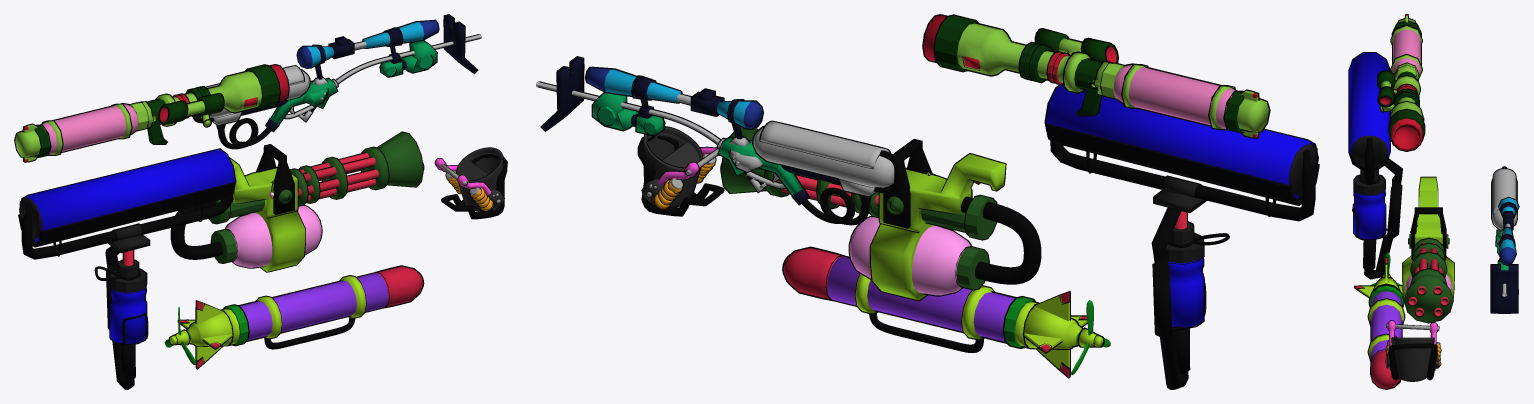
File: splatweap.fbx
3 views of the same model, side by side, from view 1: azimuth 30°, elevation 25°; view 2: azimuth 150°, elevation 25°; view 3: azimuth 270°, elevation 25° (orthographic). The views are drawn at different scales.
Parts seen in each view (by area): view 1: Cylinder.003, BakedAlaska, Circle.001, iNKZOOKA, Cylinder, Bucket, tapita, Tubito, BezierCurve; view 2: Cylinder.003, BakedAlaska, iNKZOOKA, Circle.001, Cylinder, Bucket, tapita, tapita.001, Tubito, BezierCurve; view 3: Cylinder.003, BakedAlaska, iNKZOOKA, Circle.001, Cylinder, Bucket, tapita.001, BezierCurve.
Boxes of the visible parts, box(x1,y1,x2,y2) form: Cylinder.003: box(18, 148, 236, 389); BakedAlaska: box(208, 131, 424, 272); Circle.001: box(164, 265, 424, 369); iNKZOOKA: box(14, 64, 289, 162); Cylinder: box(210, 14, 478, 132); Bucket: box(434, 147, 507, 219); tapita: box(193, 34, 481, 149); Tubito: box(170, 195, 233, 259); BezierCurve: box(53, 204, 203, 345); Cylinder.003: box(1044, 85, 1319, 389); BakedAlaska: box(720, 127, 1006, 301); iNKZOOKA: box(922, 14, 1270, 139); Circle.001: box(782, 246, 1110, 378); Cylinder: box(540, 56, 894, 205); Bucket: box(637, 126, 726, 216); tapita: box(536, 81, 902, 225); tapita.001: box(759, 120, 890, 169); Tubito: box(961, 196, 1041, 284); BezierCurve: box(1086, 151, 1276, 330); Cylinder.003: box(1348, 52, 1402, 279); BakedAlaska: box(1402, 176, 1454, 323); iNKZOOKA: box(1377, 14, 1425, 151); Circle.001: box(1354, 252, 1405, 389); Cylinder: box(1490, 177, 1519, 313); Bucket: box(1385, 320, 1441, 381); tapita.001: box(1492, 168, 1516, 214); BezierCurve: box(1352, 171, 1390, 240).
Size of the model in its own units: 2260 by 1105 by 727.
